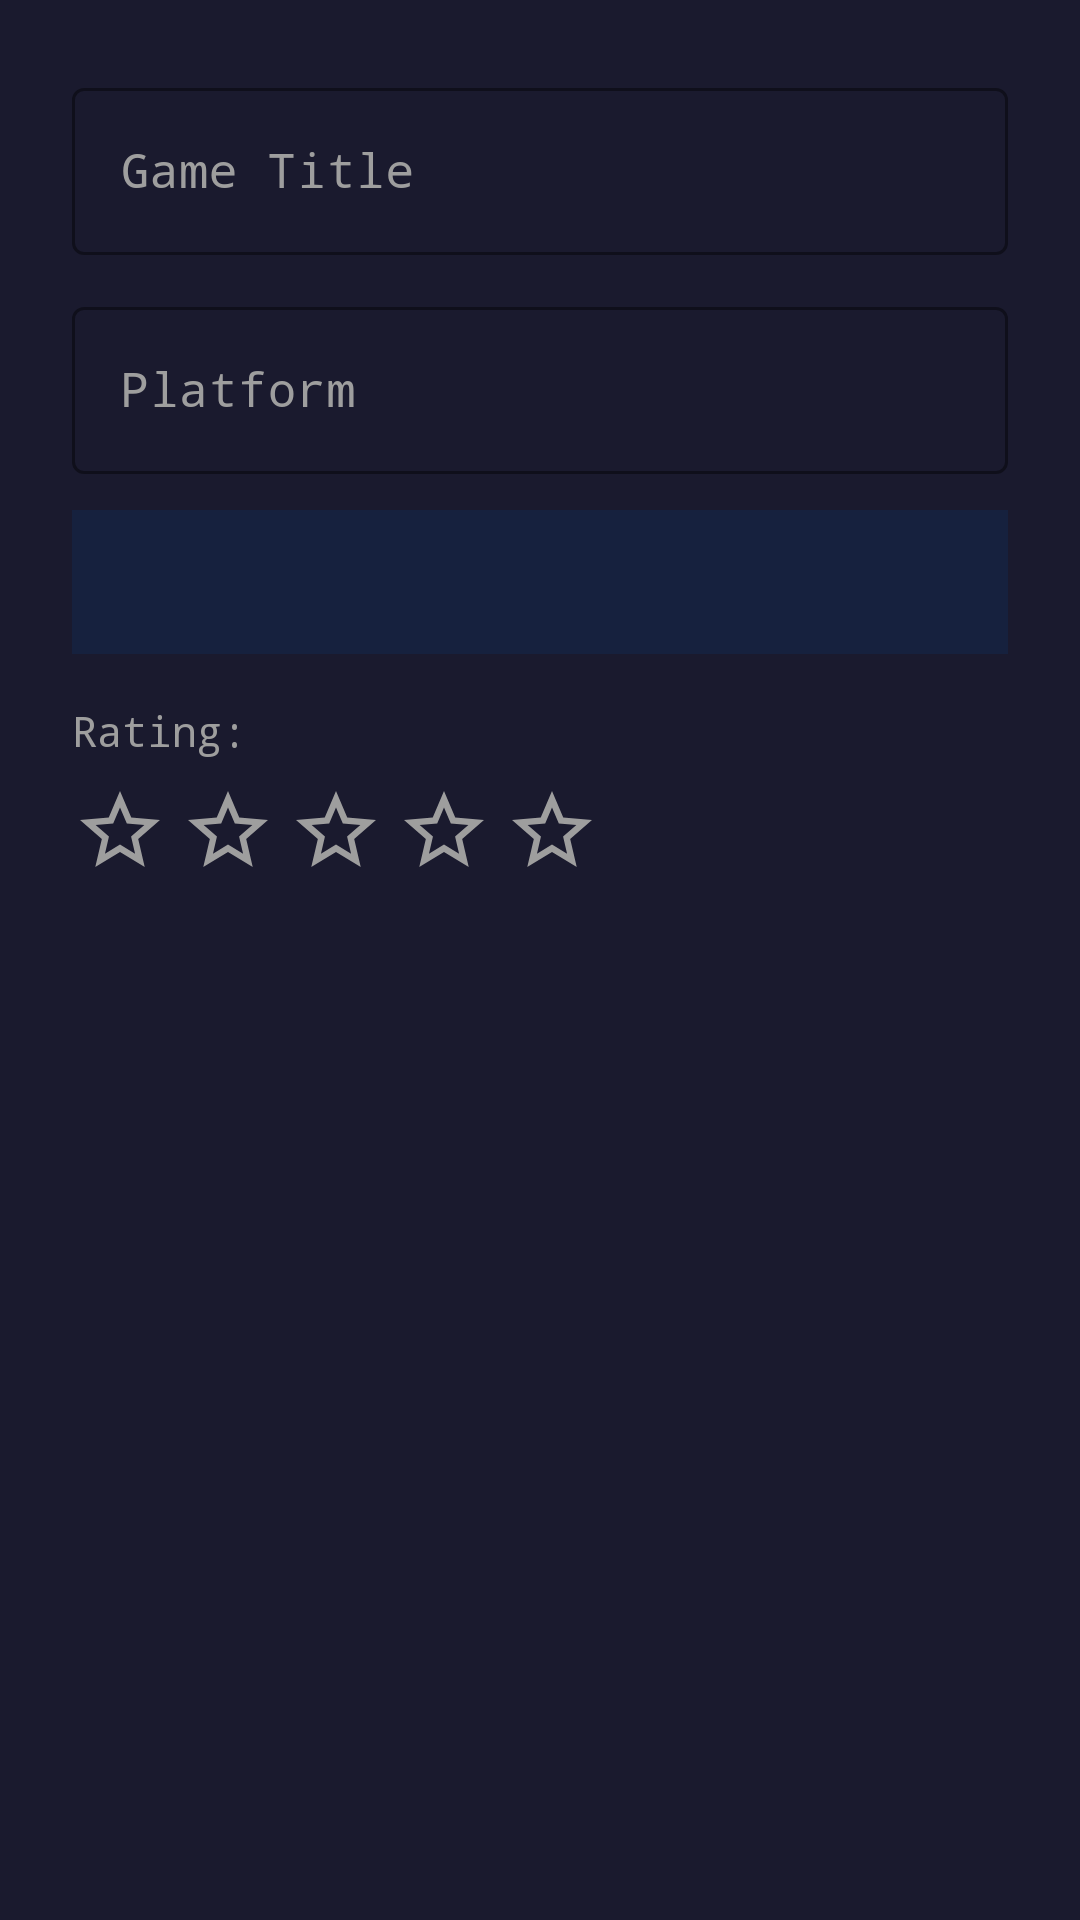

Point at icon controls on the screen. Image size 1080w x 1920h, points as [x,y].
Rating star 5: [552,829]
